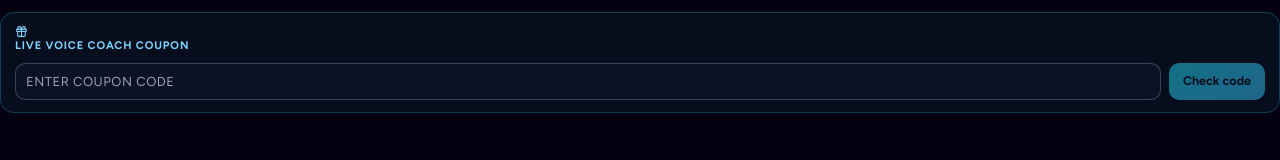
disabled shows a message distinct from global_limit_reached (no longer conflated)
This screenshot has width=1280, height=160.
Type "off1" into the field with test id "live-coupon-input" at [588, 81], box [15,62,1161,100]
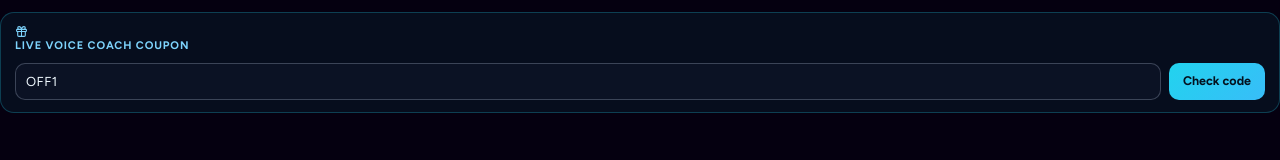
Click the button with test id "live-coupon-check-btn" at [1217, 81], box [1169,62,1265,100]
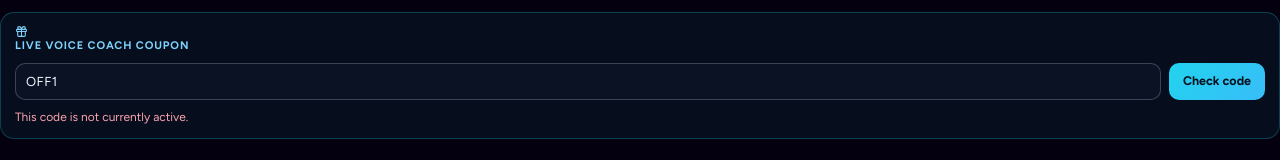
Expected: the text with test id "live-coupon-error" shows "not currently active", [15,110,188,124]
